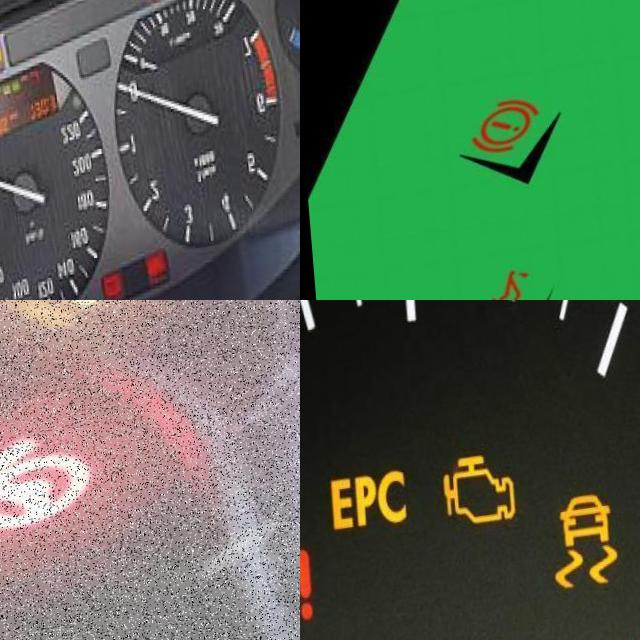Electronic Power Steering: (0, 403, 117, 581)
